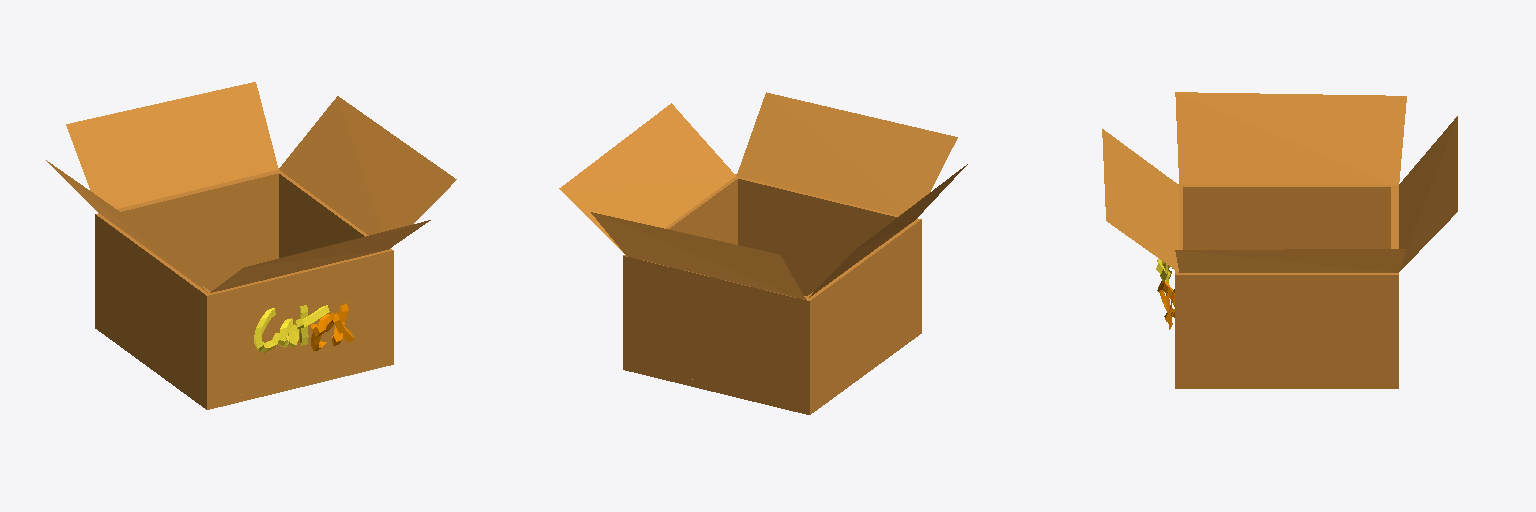
Rendered from model-triangulated.obj.
The picture shows the model from 3 angles: view 1: azimuth 30°, elevation 25°; view 2: azimuth 150°, elevation 25°; view 3: azimuth 270°, elevation 25°; orthographic projection.
Parts seen in each view (by area): view 1: group[number redacted], group[number redacted], group[number redacted], group[number redacted], group[number redacted], group[number redacted], group[number redacted], group[number redacted], group[number redacted], group[number redacted]; view 2: group[number redacted], group[number redacted], group[number redacted], group[number redacted], group[number redacted], group[number redacted], group[number redacted], group[number redacted], group[number redacted]; view 3: group[number redacted], group[number redacted], group[number redacted], group[number redacted], group[number redacted], group[number redacted], group[number redacted], group[number redacted].
Part boxes in pixels (x1,y1,x2,y2): group[number redacted]: (66,82,278,208); group[number redacted]: (203,251,386,401); group[number redacted]: (279,96,456,234); group[number redacted]: (96,213,213,402); group[number redacted]: (95,170,279,322); group[number redacted]: (278,171,393,358); group[number redacted]: (210,220,430,292); group[number redacted]: (95,321,393,409); group[number redacted]: (46,160,207,292); group[number redacted]: (254,308,278,352); group[number redacted]: (623,255,813,407); group[number redacted]: (737,92,957,215); group[number redacted]: (559,103,735,251); group[number redacted]: (803,218,920,404); group[number redacted]: (738,177,921,328); group[number redacted]: (591,212,805,299); group[number redacted]: (665,174,738,244); group[number redacted]: (623,326,921,414); group[number redacted]: (809,164,967,297); group[number redacted]: (1175,271,1394,381); group[number redacted]: (1175,92,1406,184); group[number redacted]: (1178,184,1398,249); group[number redacted]: (1102,129,1178,271); group[number redacted]: (1399,116,1457,271); group[number redacted]: (1175,249,1406,272); group[number redacted]: (1175,382,1398,388); group[number redacted]: (1391,187,1398,381).
Bounding box in the file's own units: 0.845 × 0.495 × 0.8751.